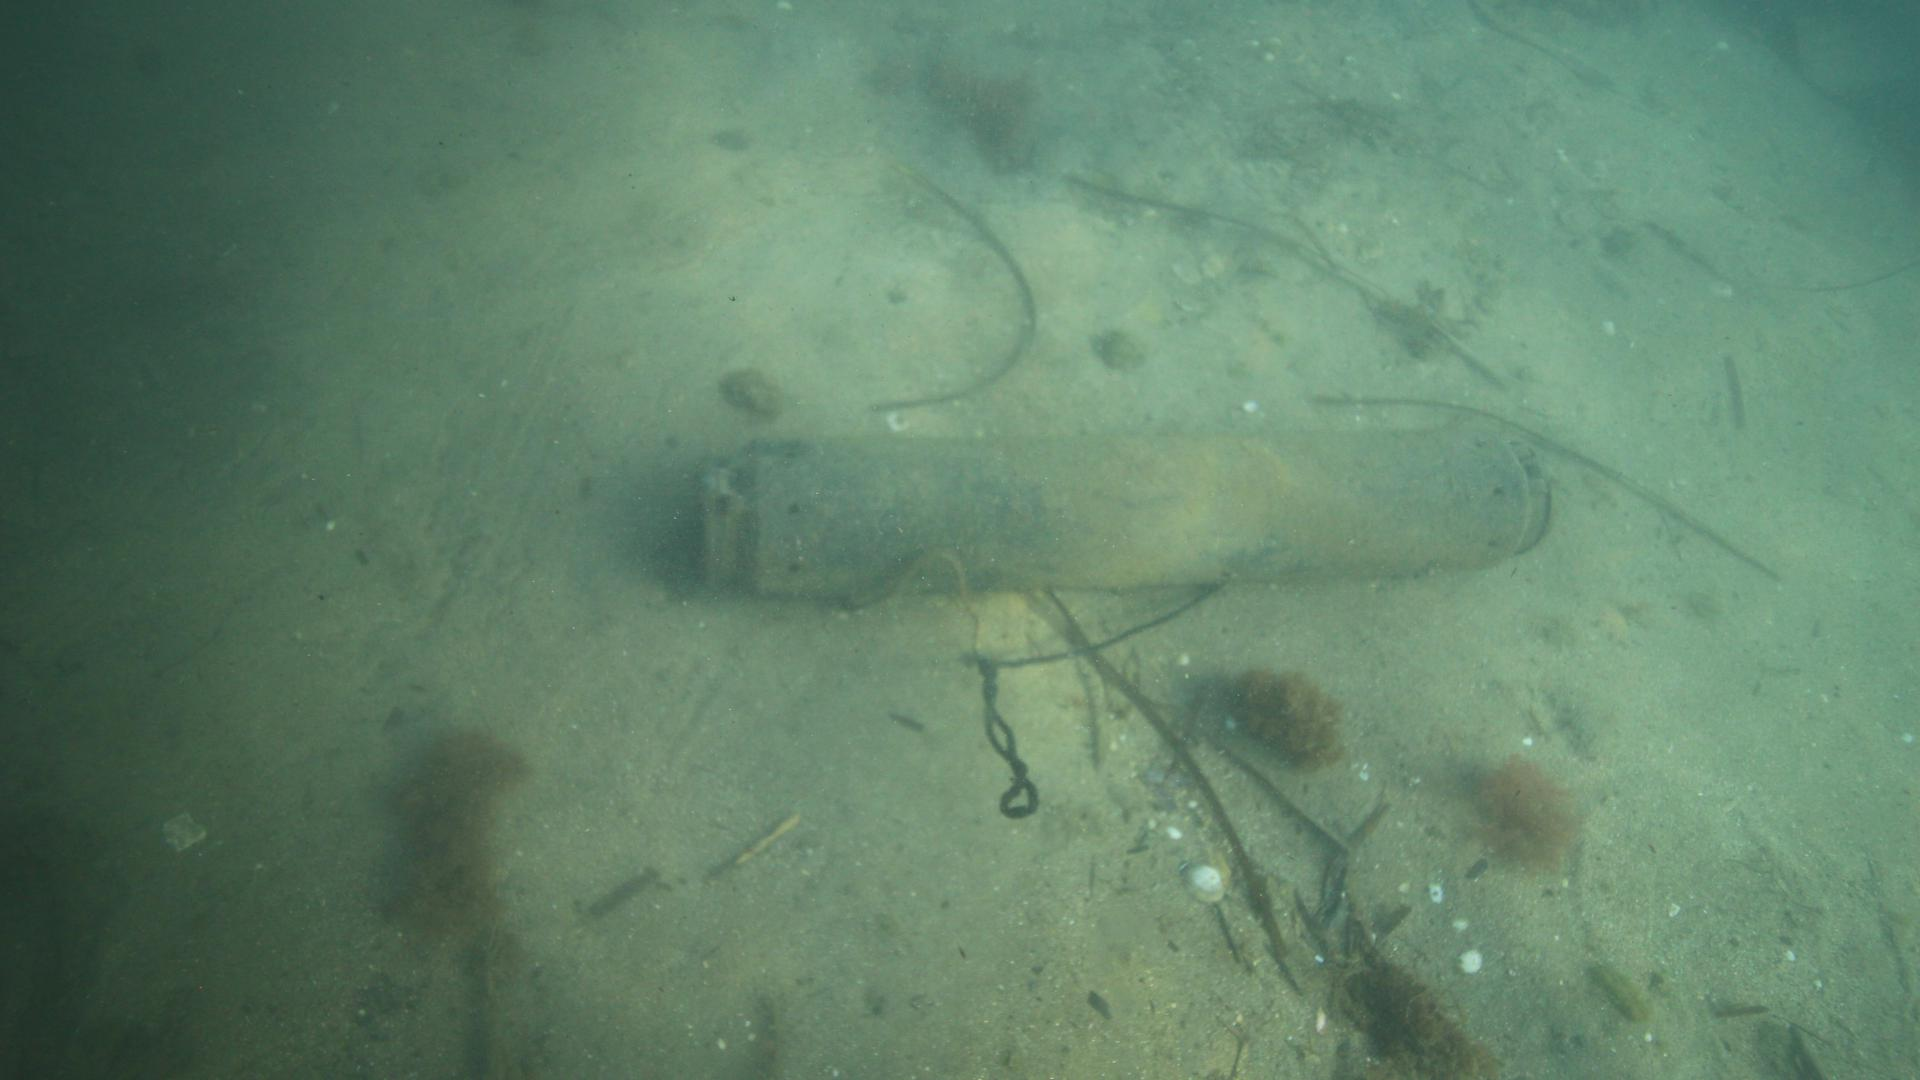eel fish trap: (694, 415, 1557, 605)
rope: (885, 549, 1232, 822)
